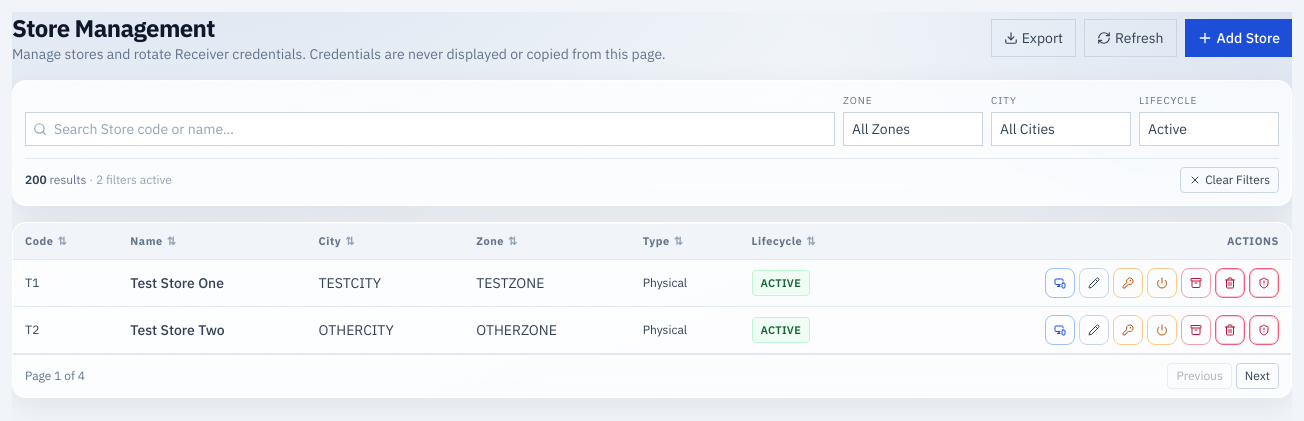
Test: changing a filter returns to page 1
Click the button with test id "page-next".
click(1257, 376)  # box 1236,363 -> 1279,389
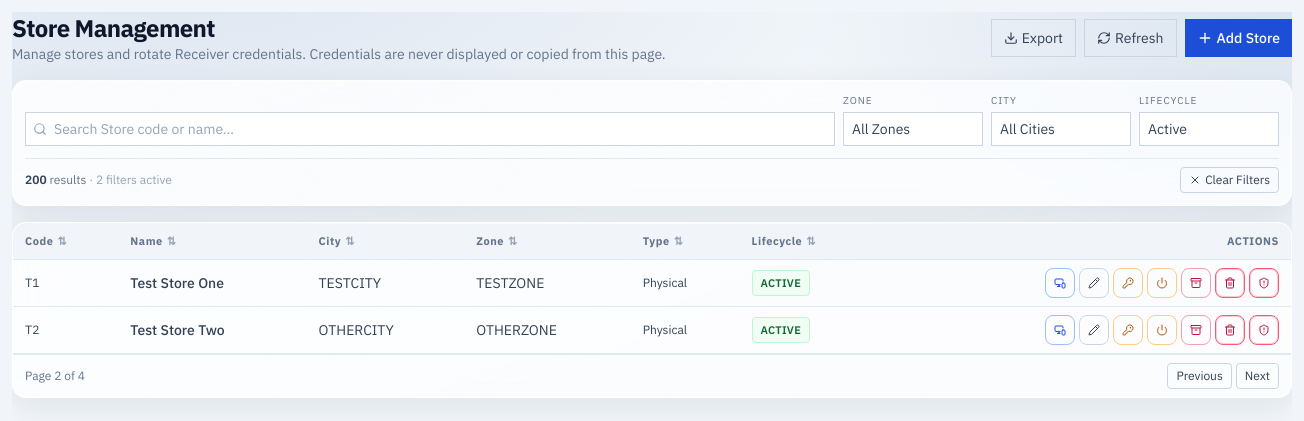
Click the button with test id "stores-zone".
click(913, 129)  # box 843,112 -> 983,146
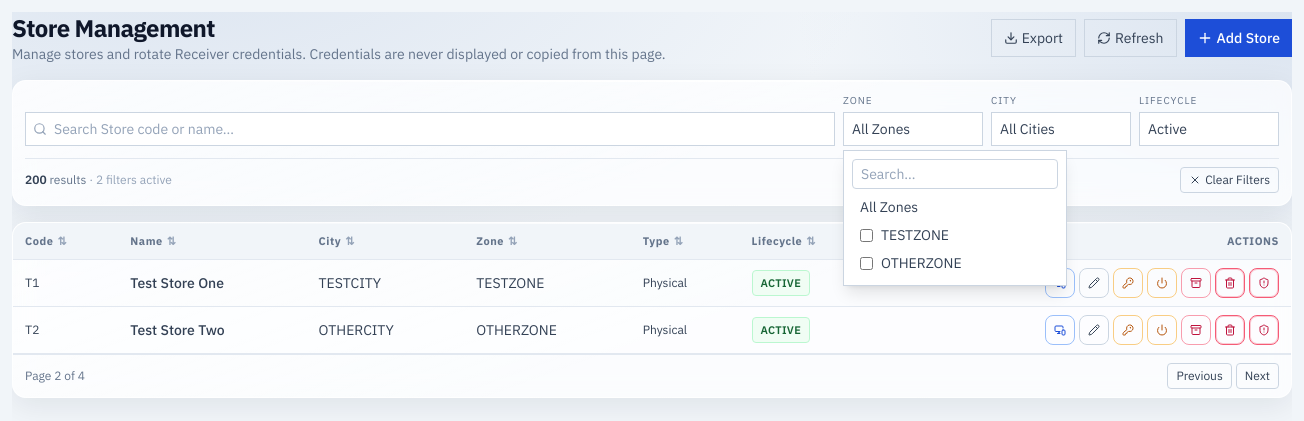
Click the checkbox with test id "stores-zone-option-OTHERZONE".
click(866, 263)  # box 860,256 -> 873,270
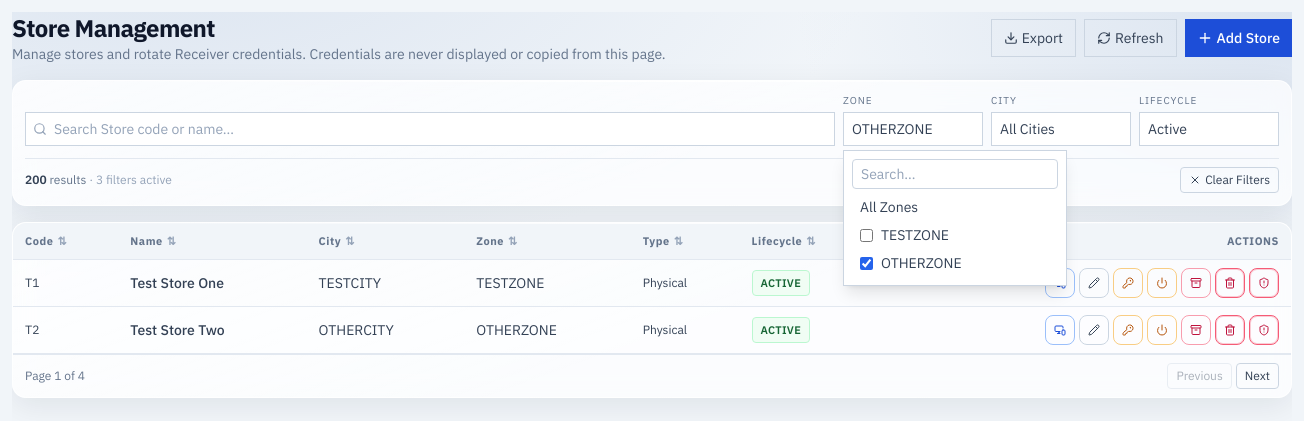
Check: the button with test id "stores-zone" reads "OTHERZONE", box 843,112 -> 983,146
